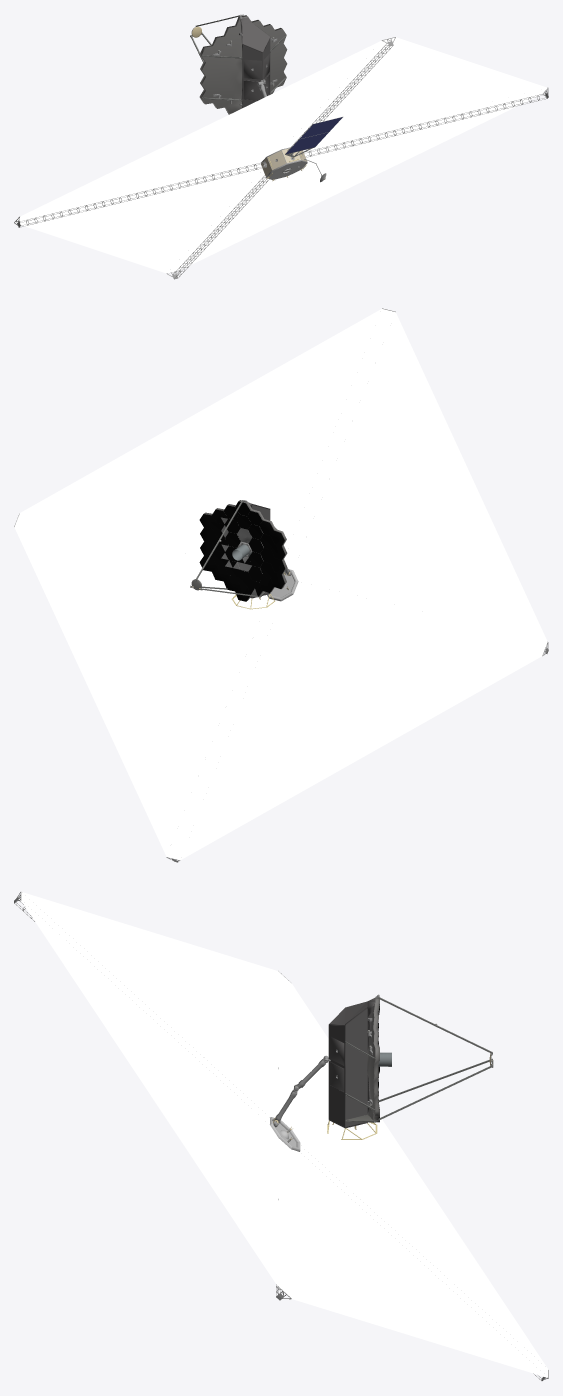
Rendered from ATLAST (2014).glb.
3 views of the same model, one above another, from view 1: azimuth 30°, elevation 25°; view 2: azimuth 150°, elevation 25°; view 3: azimuth 270°, elevation 25° (orthographic). The views are drawn at different scales.
Visible parts, largest first — view 1: Fake; view 2: Fake; view 3: Fake.
Part boxes in pixels (bbox=[...]): Fake: bbox=[14, 14, 548, 279]; Fake: bbox=[14, 308, 548, 862]; Fake: bbox=[14, 891, 548, 1380].
Size of the model in its own units: 27.19 by 19.48 by 19.48.
